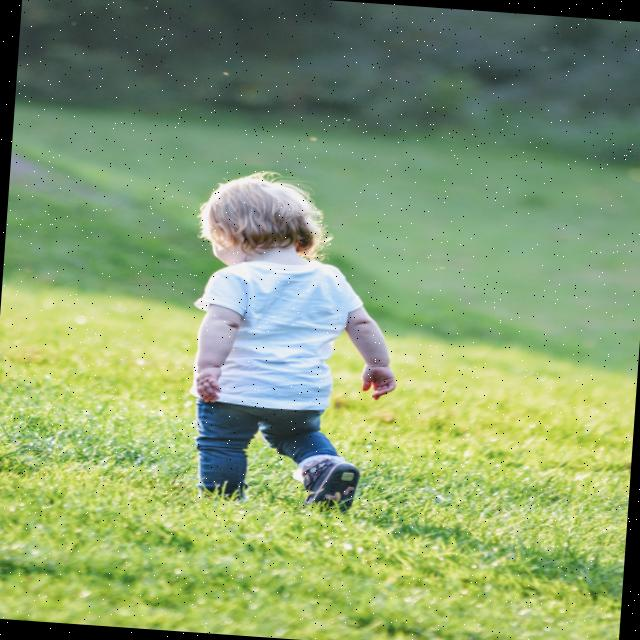Person: (180, 168, 410, 510)
